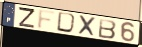6: (120, 21, 136, 43)
B: (98, 17, 118, 40)
D: (56, 11, 79, 35)
F: (36, 9, 58, 31)
X: (77, 15, 97, 38)
Z: (17, 6, 36, 30)
